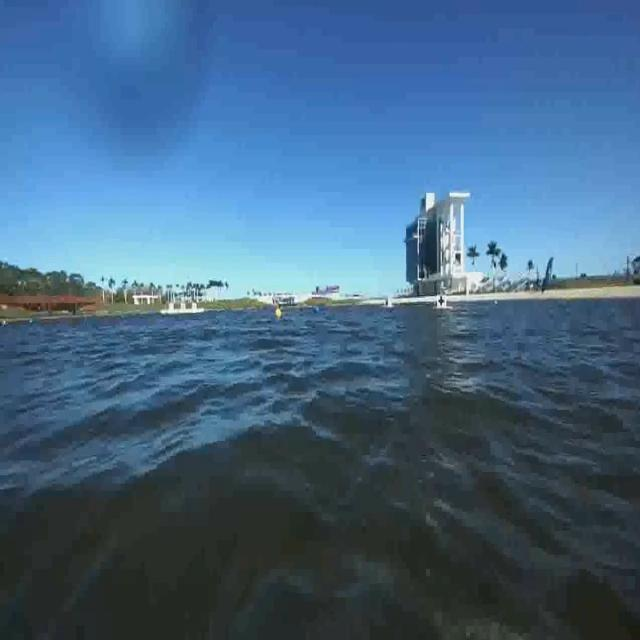yellow-buoy: (276, 308, 283, 320)
